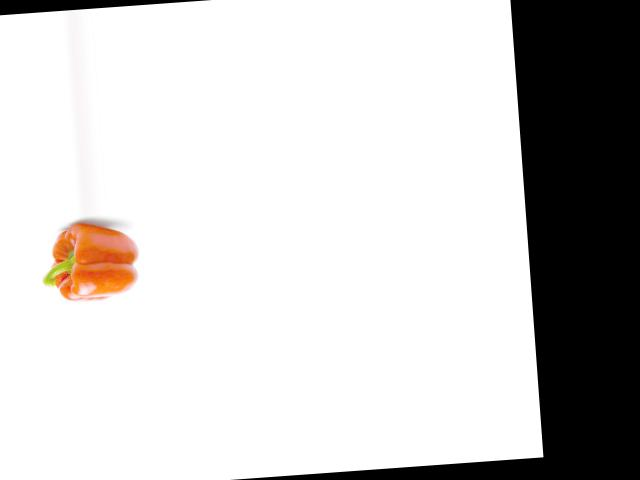bell_pepper: (33, 219, 150, 304)
